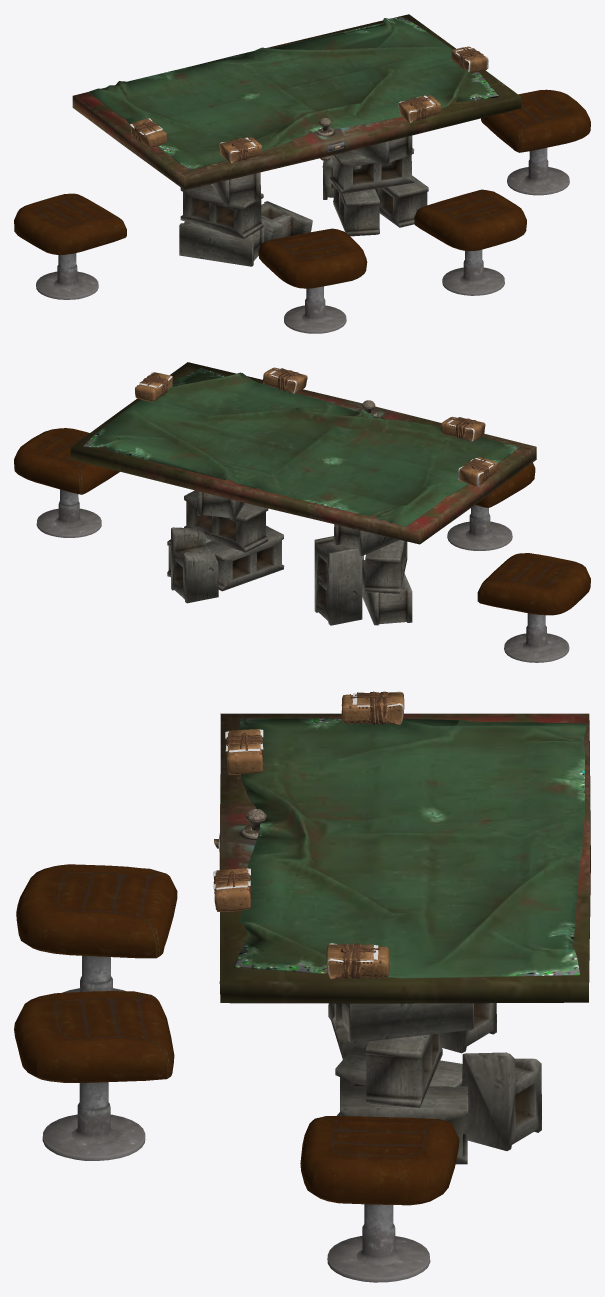
File: cardtable.caboose_static.glb
3 views of the same model, one above another, from view 1: azimuth 30°, elevation 25°; view 2: azimuth 150°, elevation 25°; view 3: azimuth 270°, elevation 25° (orthographic). The views are drawn at different scales.
Parts seen in each view (by area): view 1: tabledoorPOKERClear_LOD0, CantinaStool_LOD0 (×4), smallstash_LOD0 (×4); view 2: tabledoorPOKERClear_LOD0, CantinaStool_LOD0 (×3), smallstash_LOD0 (×4); view 3: tabledoorPOKERClear_LOD0, CantinaStool_LOD0 (×3), smallstash_LOD0 (×4).
Part boxes in pixels (x1=…): tabledoorPOKERClear_LOD0: x1=72, y1=14, x2=521, y2=266; CantinaStool_LOD0 (×4): x1=14, y1=89, x2=590, y2=333; smallstash_LOD0 (×4): x1=130, y1=46, x2=488, y2=163; tabledoorPOKERClear_LOD0: x1=70, y1=362, x2=536, y2=625; CantinaStool_LOD0 (×3): x1=14, y1=428, x2=590, y2=662; smallstash_LOD0 (×4): x1=135, y1=367, x2=496, y2=486; tabledoorPOKERClear_LOD0: x1=214, y1=713, x2=590, y2=1164; CantinaStool_LOD0 (×3): x1=14, y1=864, x2=459, y2=1282; smallstash_LOD0 (×4): x1=213, y1=691, x2=404, y2=979.
Bounding box in the file's own units: 3.39 × 0.9239 × 1.89.
3 materials, 3 textured.
